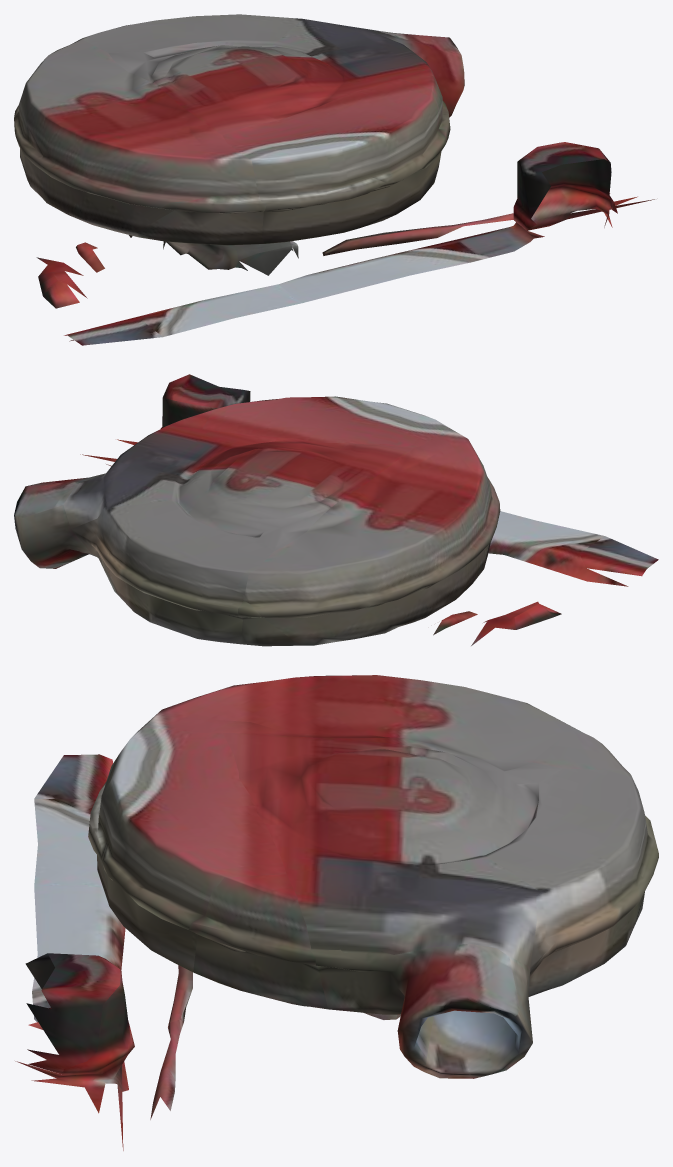
The model's file is aircleaner_202.glb.
3 views of the same model, one above another, from view 1: azimuth 30°, elevation 25°; view 2: azimuth 150°, elevation 25°; view 3: azimuth 270°, elevation 25° (orthographic). The views are drawn at different scales.
Parts seen in each view (by area): view 1: aircleaner_202; view 2: aircleaner_202; view 3: aircleaner_202.
Boxes of the visible parts, left/top/right/bottom form: aircleaner_202: left=14, top=14, right=654, bottom=345; aircleaner_202: left=14, top=374, right=658, bottom=646; aircleaner_202: left=15, top=675, right=658, bottom=1150.
Size of the model in its own units: 0.5329 by 0.1248 by 0.3849.
Materials: 1 (1 with a texture image).
